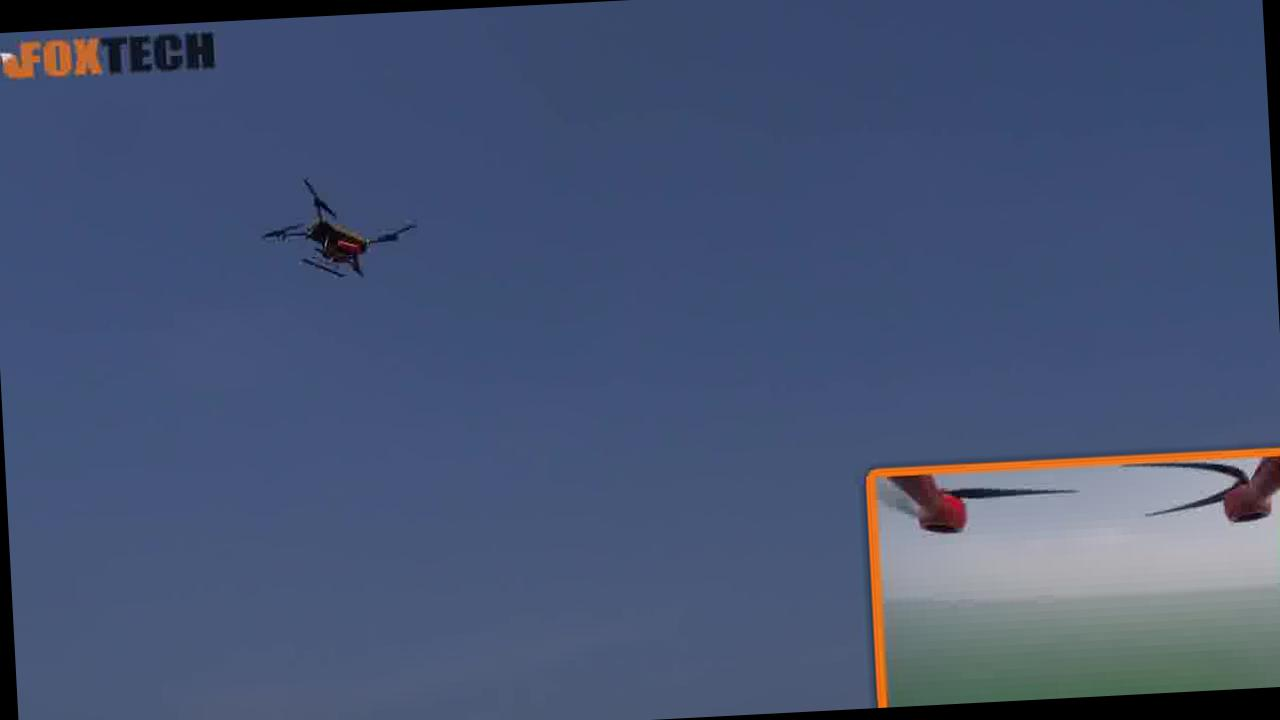drone: (244, 156, 434, 293)
